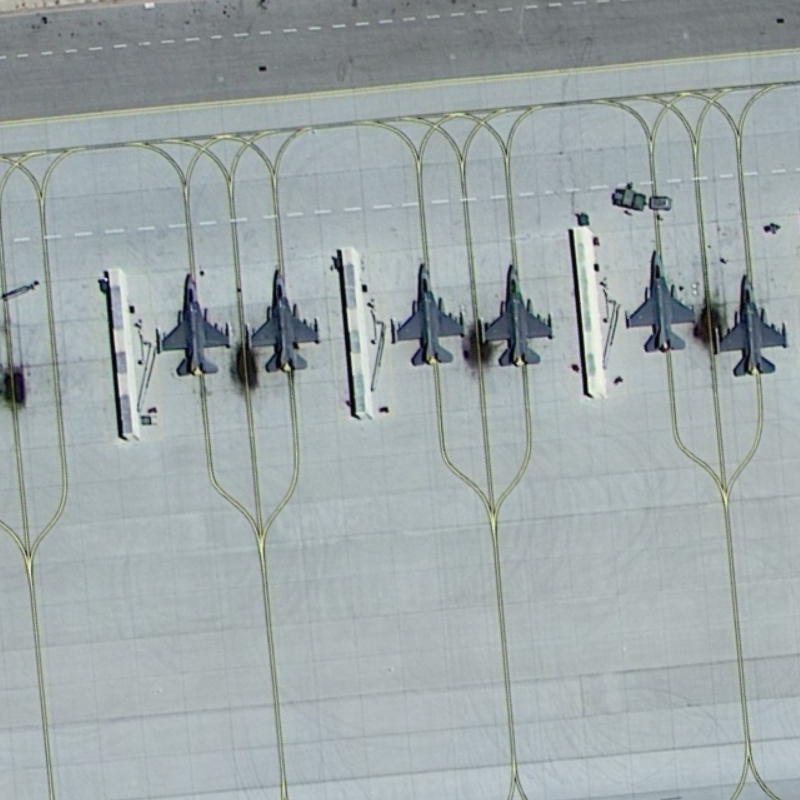A5: (240, 263, 334, 378), (386, 250, 471, 372), (149, 268, 238, 384), (474, 257, 560, 377), (707, 266, 793, 382), (619, 240, 699, 363)
